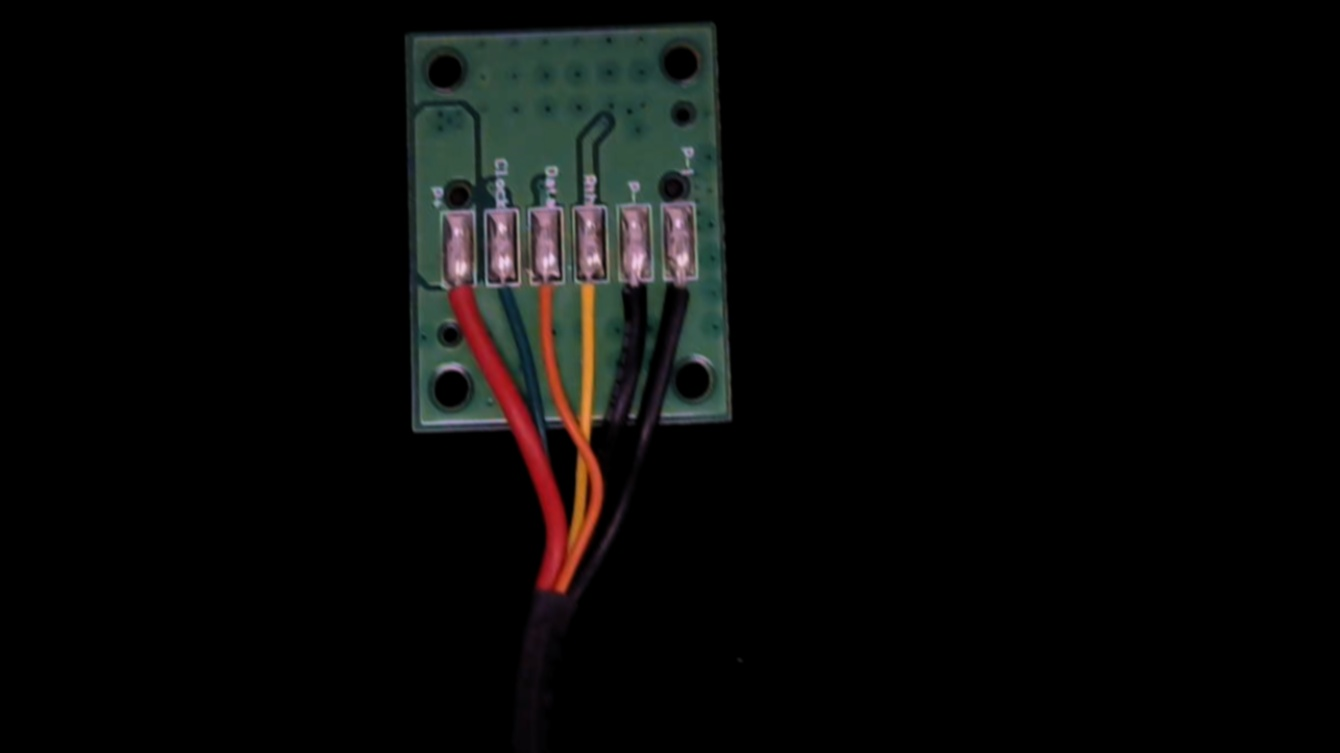Black: (613, 265, 656, 344)
Black1: (662, 261, 702, 344)
Green: (486, 265, 519, 337)
Orange: (528, 266, 564, 341)
Red: (439, 269, 477, 340)
Yellow: (571, 264, 609, 345)
